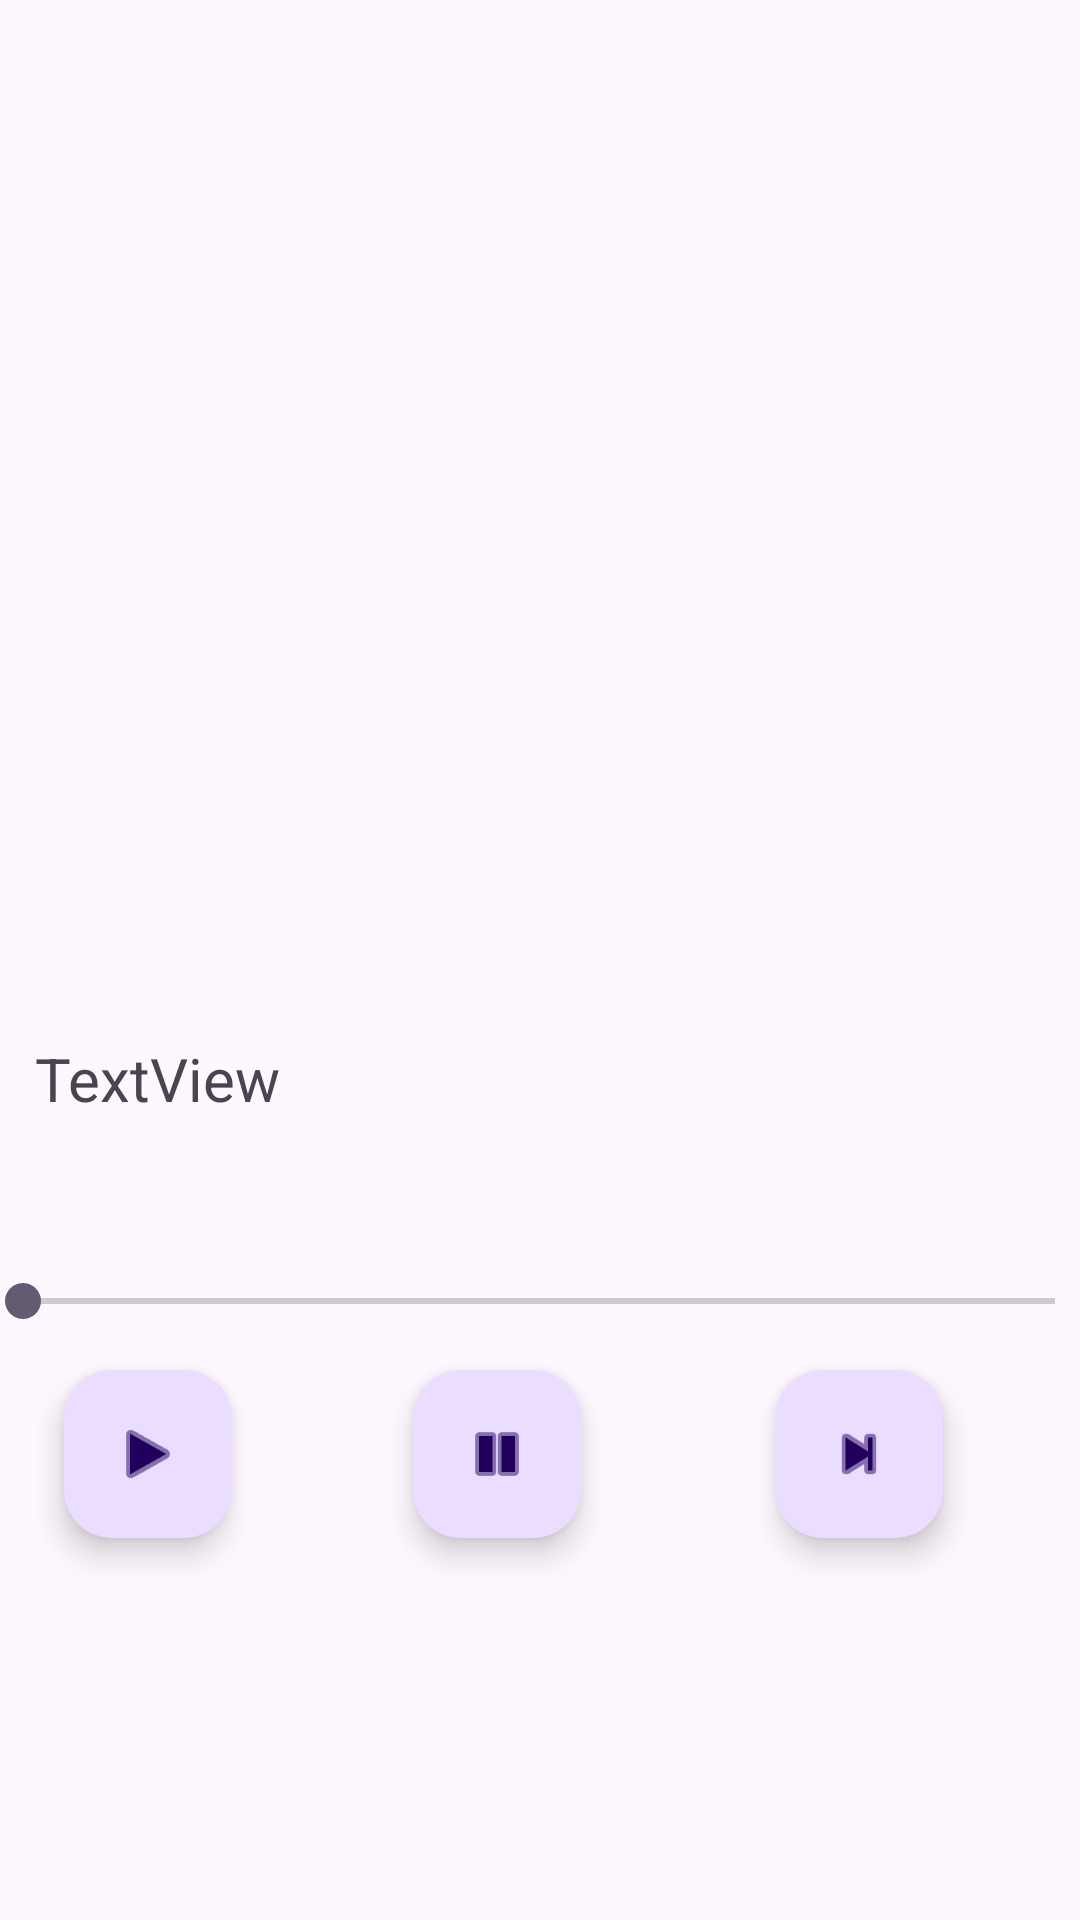

Where icons sit on this 1080px x 1920px app screen, as (x1=x1, y1=y1, x2=x2, y2=y2):
next: (x1=775, y1=1370, x2=943, y2=1538)
pause: (x1=413, y1=1370, x2=581, y2=1538)
play: (x1=126, y1=1430, x2=170, y2=1478)
